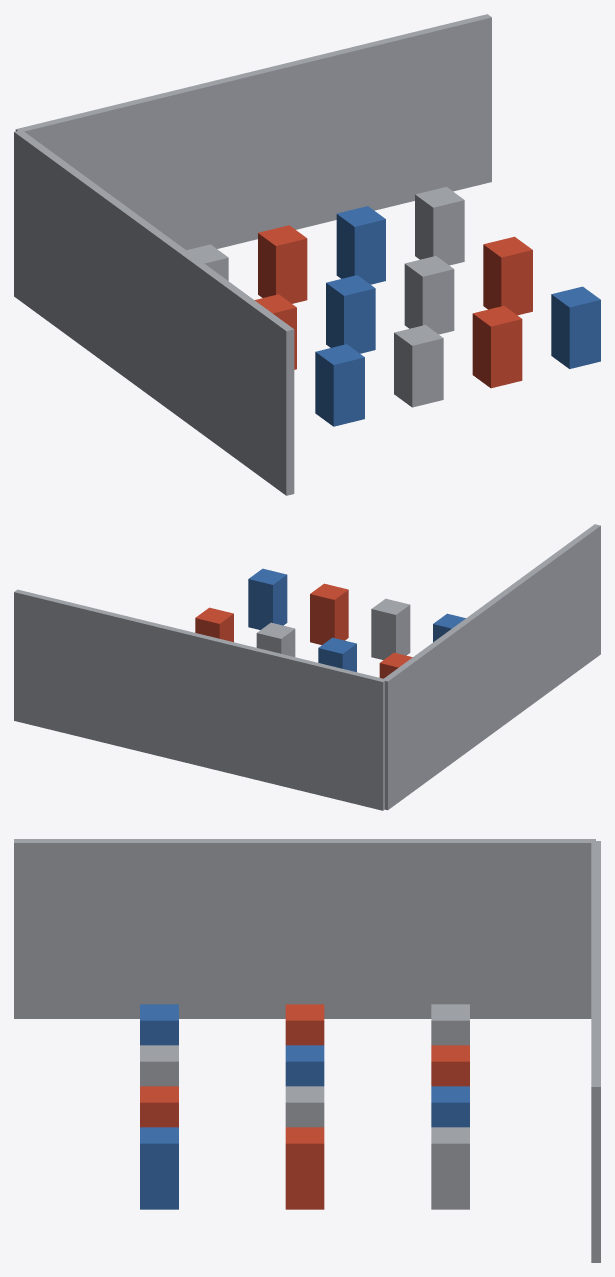
Rendered from B-interior.glb.
3 renders of one model, top to bottom at view 1: azimuth 30°, elevation 25°; view 2: azimuth 150°, elevation 25°; view 3: azimuth 270°, elevation 25°, orthographic. The views are drawn at different scales.
Parts seen in each view (by area): view 1: box-13, box-14, box-11, box-9, box-10, box-12, box-7, box-2, box-3, box-6, box-4, box-8 (+2 smaller); view 2: box-13, box-14, box-10, box-12, box-11, box-7, box-8, box-6, box-5, box-9; view 3: box-14, box-13, box-8, box-4, box-12, box-5, box-6, box-7, box-1, box-2, box-3, box-9 (+2 smaller).
Part boxes in pixels (left/top/right/bottom): box-13: left=15, top=14, right=491, bottom=250; box-14: left=14, top=131, right=294, bottom=495; box-11: left=472, top=306, right=522, bottom=388; box-9: left=315, top=344, right=364, bottom=426; box-10: left=394, top=325, right=443, bottom=407; box-12: left=551, top=286, right=600, bottom=368; box-7: left=404, top=256, right=454, bottom=334; box-2: left=258, top=225, right=307, bottom=303; box-3: left=336, top=206, right=385, bottom=284; box-6: left=326, top=275, right=375, bottom=353; box-4: left=415, top=187, right=464, bottom=265; box-8: left=483, top=236, right=532, bottom=315; box-13: left=14, top=589, right=386, bottom=810; box-14: left=382, top=524, right=600, bottom=810; box-10: left=371, top=598, right=410, bottom=659; box-12: left=248, top=568, right=287, bottom=629; box-11: left=310, top=583, right=348, bottom=644; box-7: left=256, top=622, right=295, bottom=656; box-8: left=195, top=607, right=233, bottom=642; box-6: left=318, top=637, right=356, bottom=672; box-5: left=379, top=652, right=412, bottom=678; box-9: left=433, top=613, right=465, bottom=642; box-14: left=14, top=839, right=595, bottom=1018; box-13: left=591, top=841, right=600, bottom=1262; box-8: left=285, top=1127, right=324, bottom=1209; box-4: left=431, top=1127, right=469, bottom=1209; box-12: left=140, top=1127, right=178, bottom=1209; box-5: left=285, top=1004, right=324, bottom=1045; box-6: left=285, top=1045, right=324, bottom=1086; box-7: left=285, top=1086, right=324, bottom=1127; box-1: left=431, top=1004, right=469, bottom=1045; box-2: left=431, top=1045, right=469, bottom=1086; box-3: left=431, top=1086, right=469, bottom=1127; box-9: left=140, top=1004, right=178, bottom=1045.
Size of what is drawn, in the model's own units: 12.1 by 4 by 12.1.
